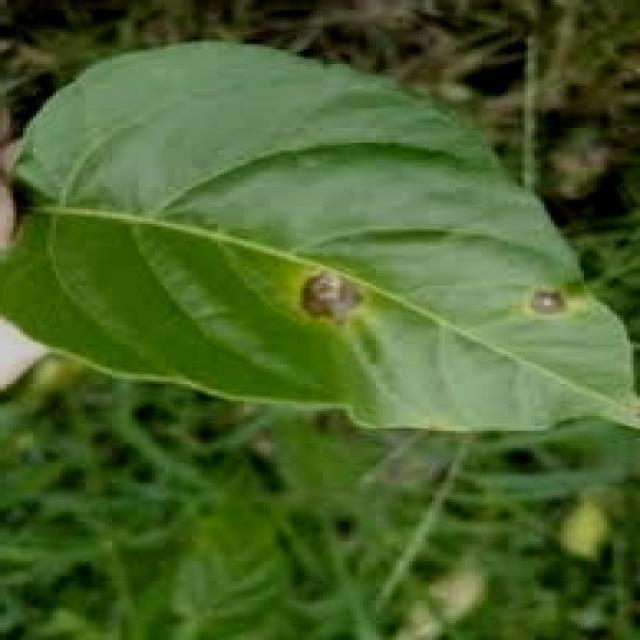Bercak Daun Serkospora: (3, 41, 640, 438)
